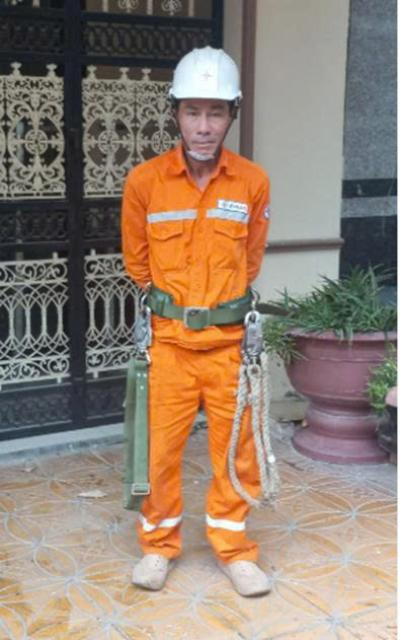harness: (137, 269, 264, 333)
helmet: (163, 40, 256, 110)
shoes: (206, 546, 290, 605), (120, 539, 181, 595)
